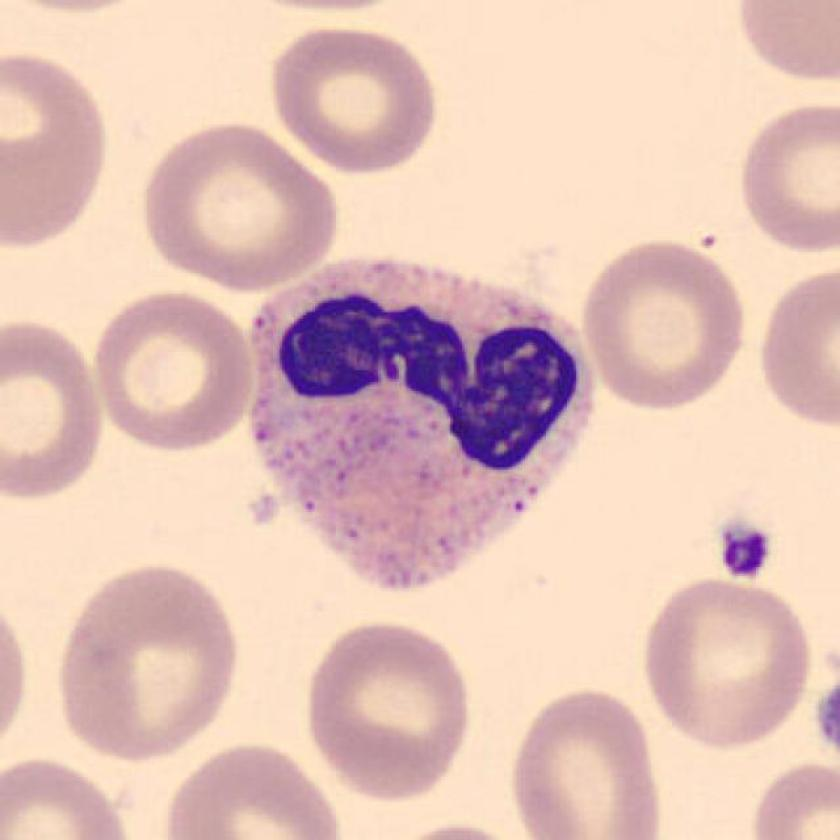neutrophil: (251, 254, 596, 588)
